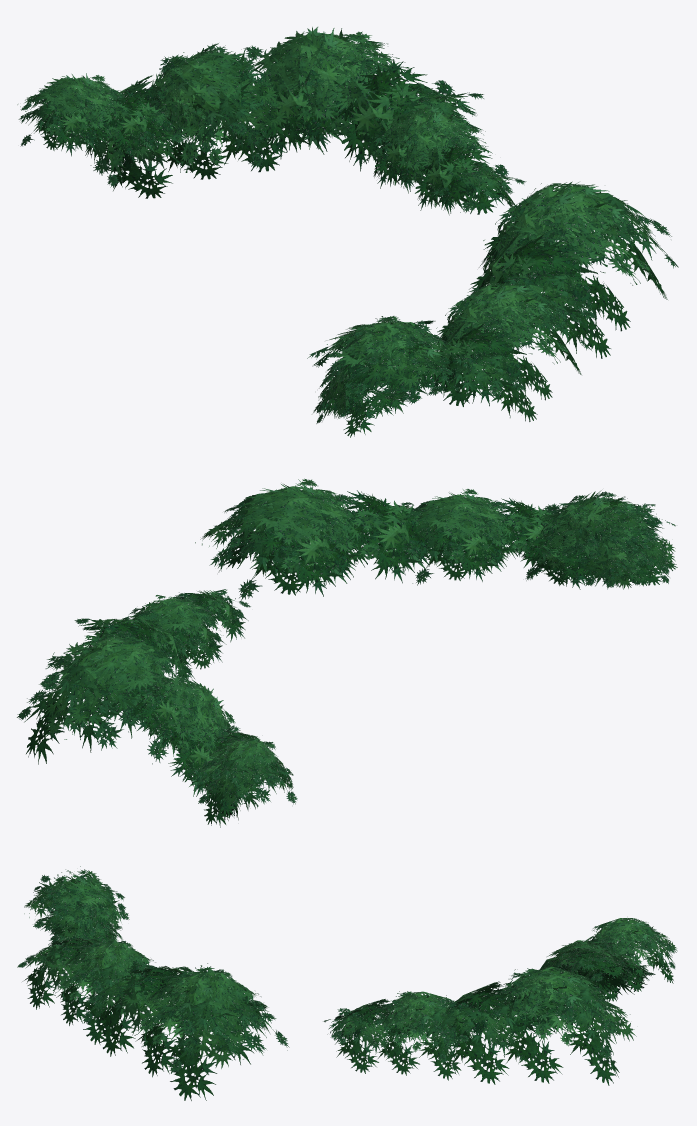
Rendered from Area_03_3.fbx.
3 views of the same model, one above another, from view 1: azimuth 30°, elevation 25°; view 2: azimuth 150°, elevation 25°; view 3: azimuth 270°, elevation 25° (orthographic). The views are drawn at different scales.
Visible parts, largest first — view 1: Area_03_3; view 2: Area_03_3; view 3: Area_03_3.
Part boxes in pixels (x1,y1,x2,y2): Area_03_3: (17, 27, 678, 437); Area_03_3: (17, 478, 677, 827); Area_03_3: (17, 866, 677, 1100).
Bounding box in the file's own units: 2528 × 892 × 4251.
